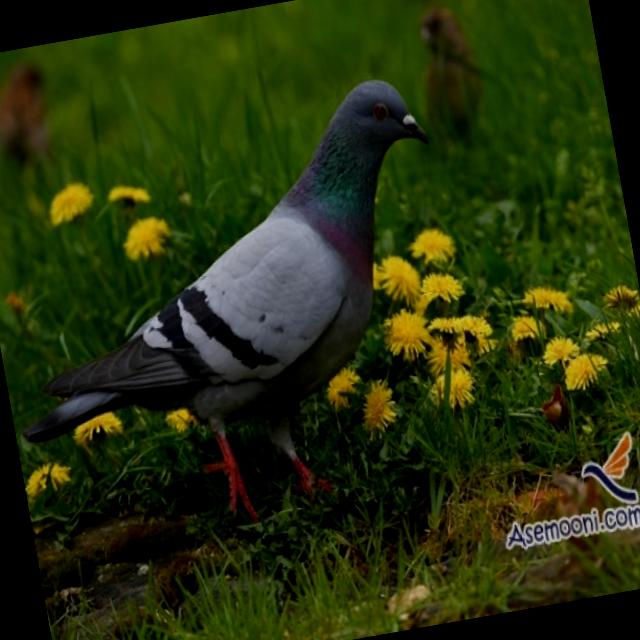bird: (0, 63, 502, 559)
